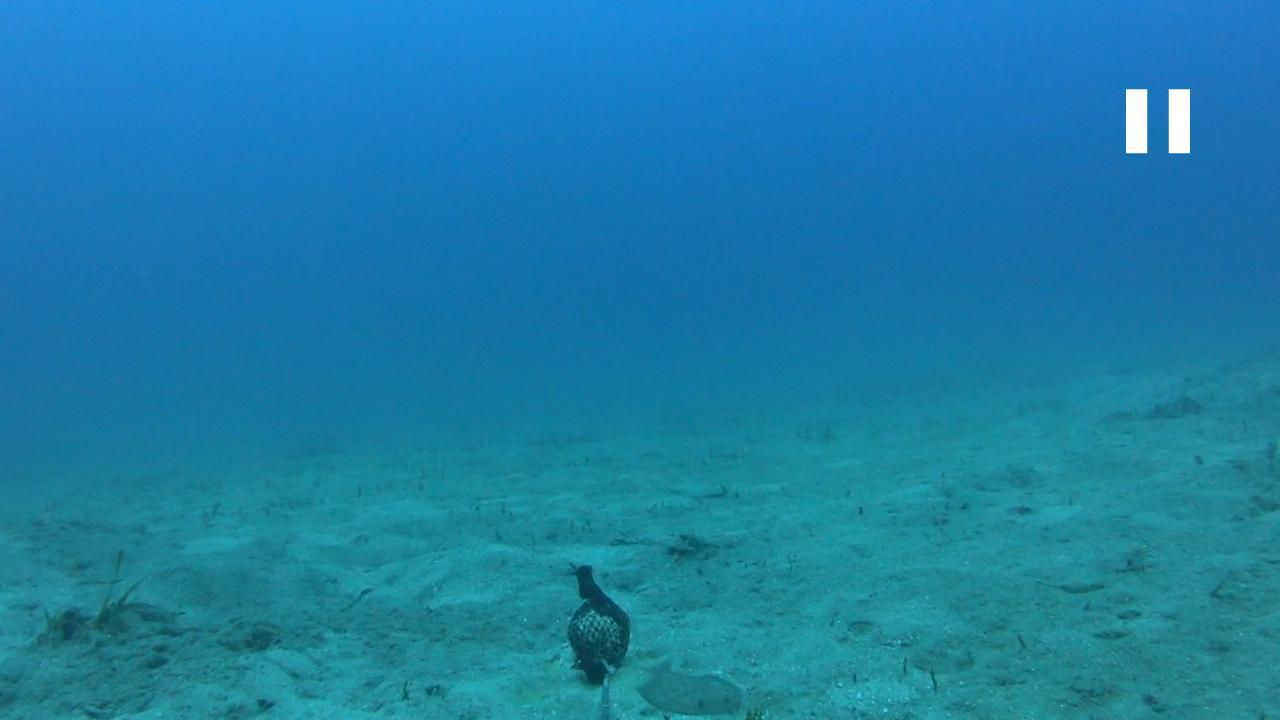bothus: (631, 656, 748, 719)
